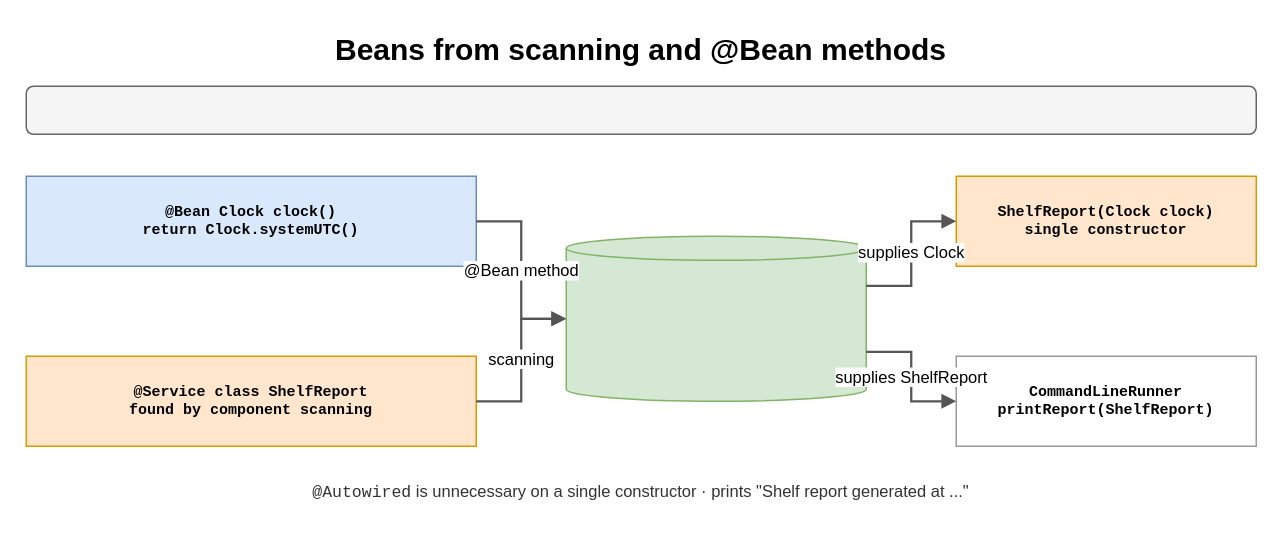
This 1283x534 diagram has some shape labels left out. Each missing label, with the centre of its shape:
"application context" belongs at pixel 715 318.
"Scanning finds stereotypes; @Bean methods return objects you build" belongs at pixel 640 109.
